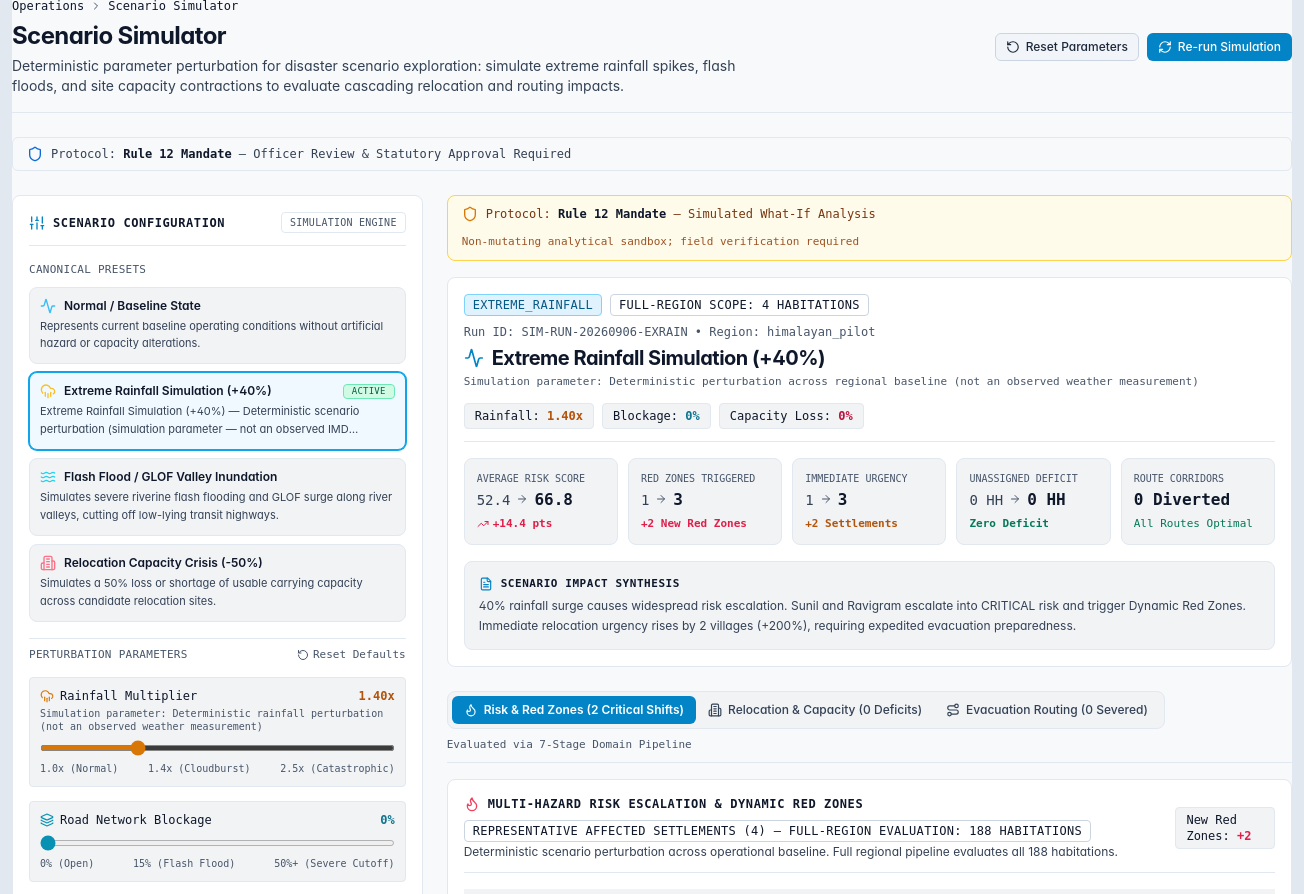
Scenario Simulator UI Suite (Chunk M6-04) › Domain Impact Tabs (Risk, Relocation, Routing) › switches to Evacuation Routing tab and displays corridor severance and bypasses
# First select Flash Flood so we have diverted and cut-off routes
Click the text "Flash Flood / GLOF Valley Inundation": click(171, 477) [64,469,277,485]
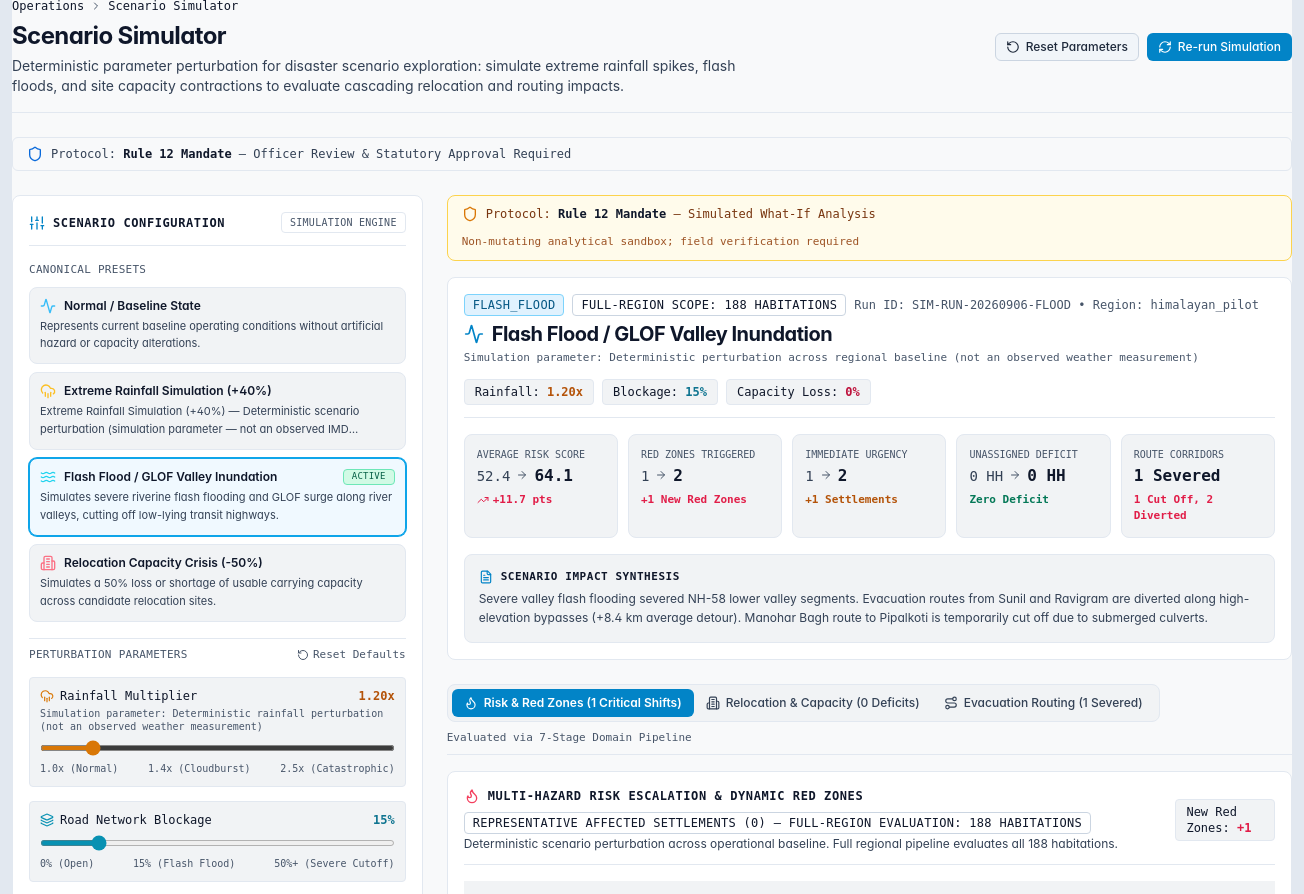
Click the tab "Evacuation Routing (1 Severed)": click(1043, 702) [932,688,1155,716]
(page scrolled)
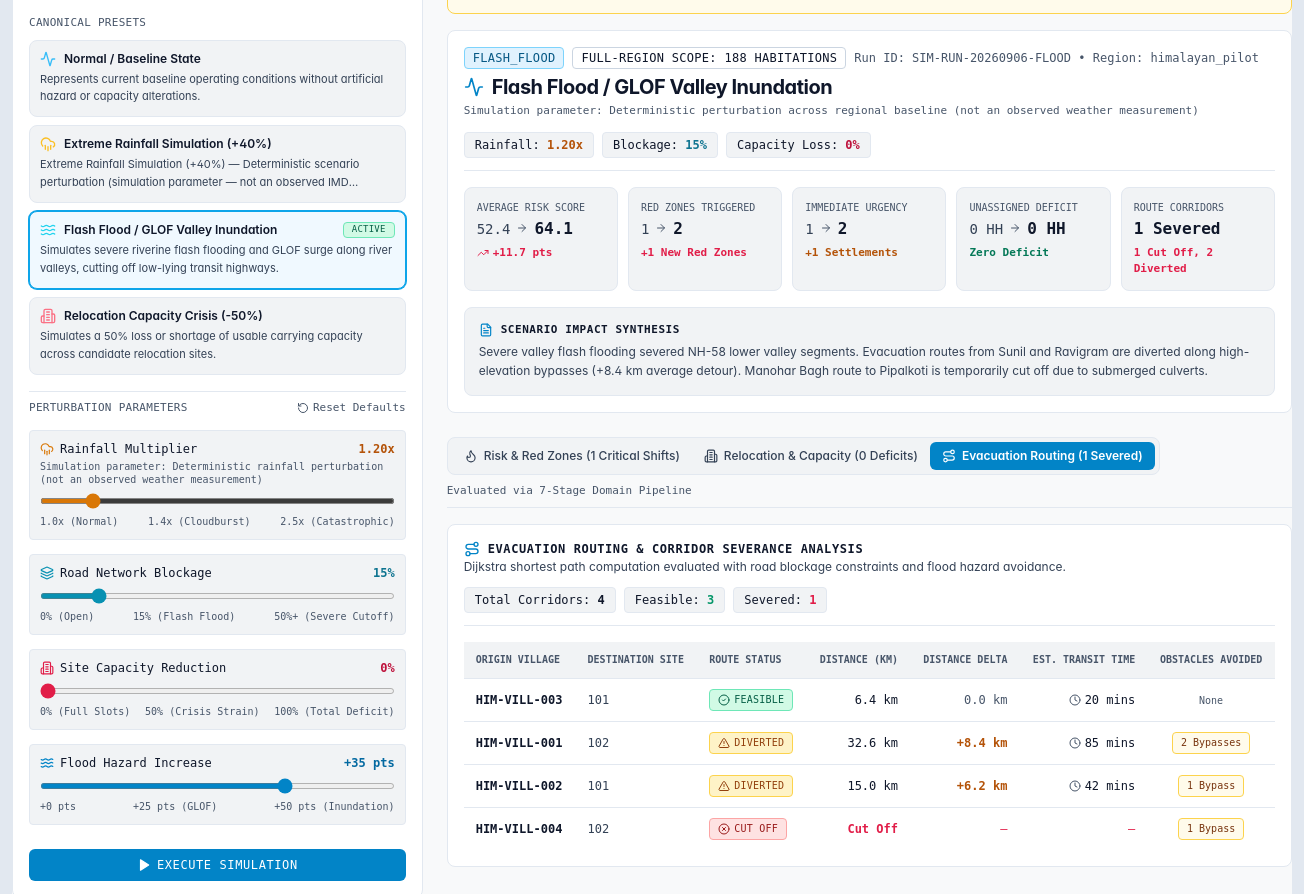
Expected: the column heading "Origin Village" is shown, [464,642,576,678]
Expected: the column heading "Destination Site" is shown, [576,642,697,678]
Expected: the column heading "Route Status" is shown, [697,642,807,678]
